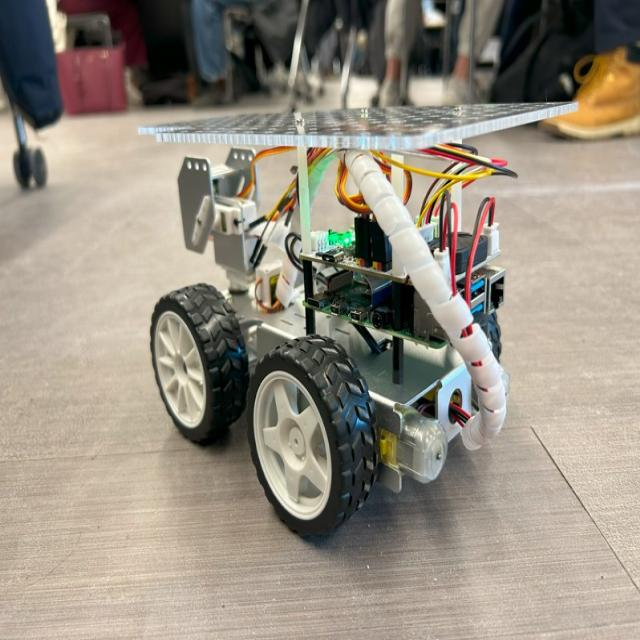vehicle: (136, 96, 582, 550)
